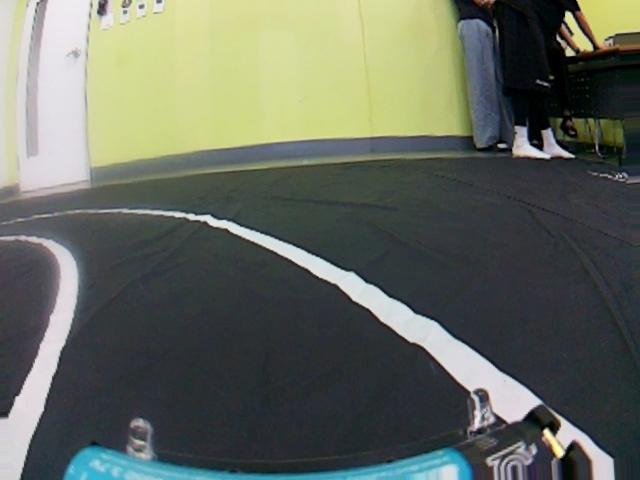straight: (0, 187, 635, 477)
